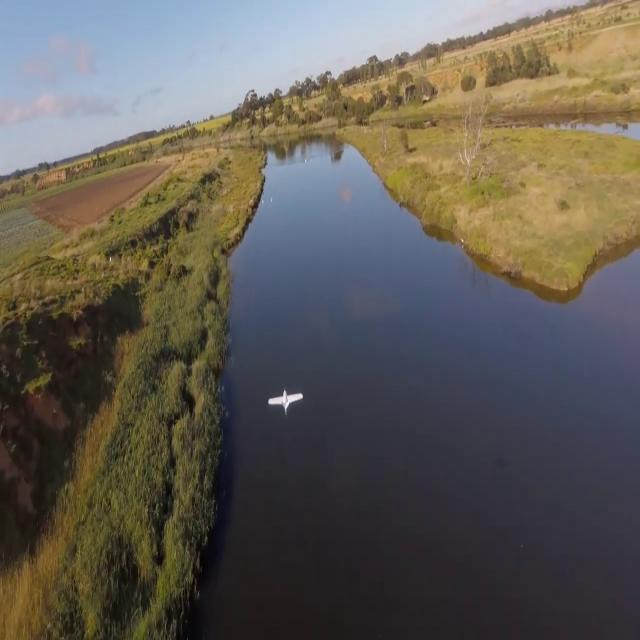iha: (266, 383, 304, 416)
